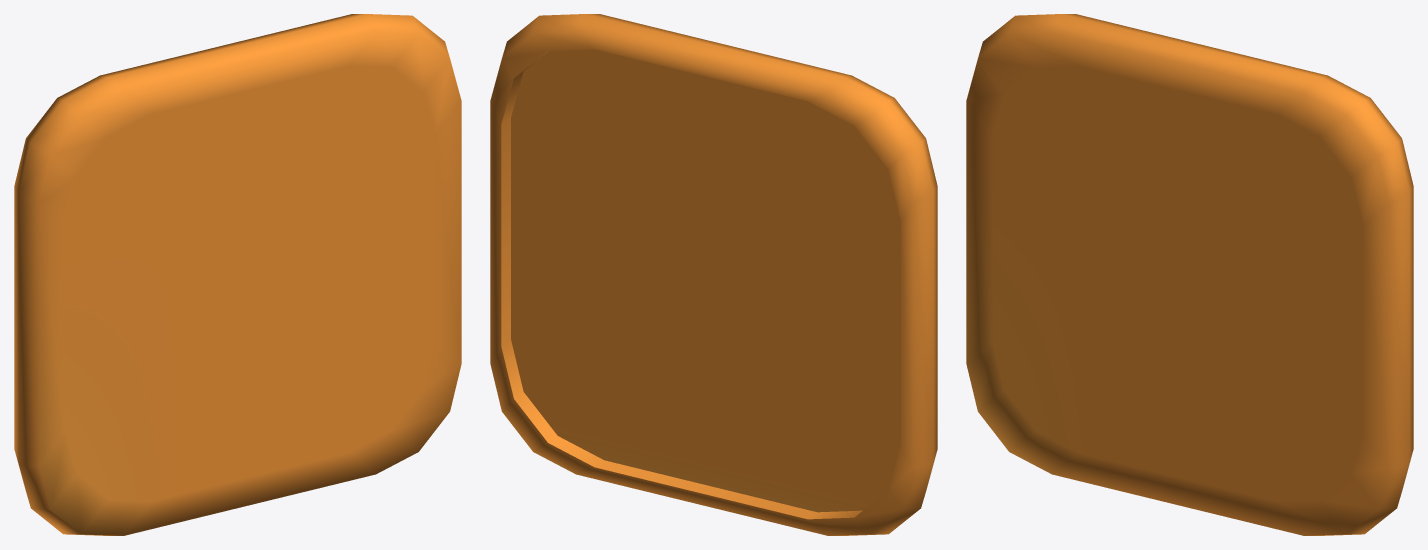
The model's file is PlacaMenu.fbx.
3 renders of one model, left to right at view 1: azimuth 30°, elevation 25°; view 2: azimuth 150°, elevation 25°; view 3: azimuth 330°, elevation 25°, orthographic.
Parts seen in each view (by area): view 1: Cube; view 2: Cube; view 3: Cube.
Boxes of the visible parts, x1,y1,x2,y2 form: Cube: (14,14,461,535); Cube: (490,14,937,535); Cube: (966,14,1413,535).
Size of the model in its own units: 207 by 207 by 20.48.
1 material, 1 textured.
